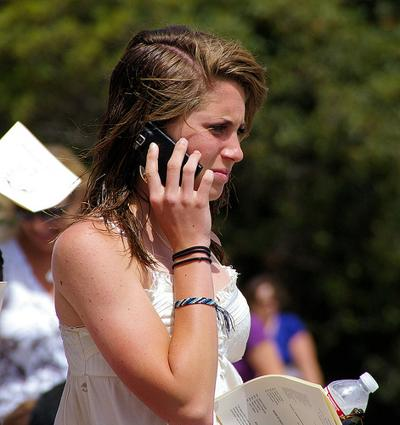person: (51, 28, 379, 425)
